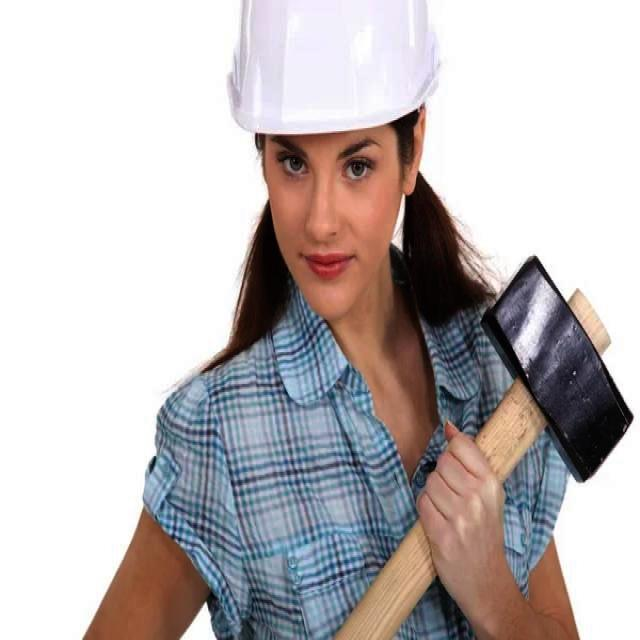hammer: (336, 249, 637, 640)
